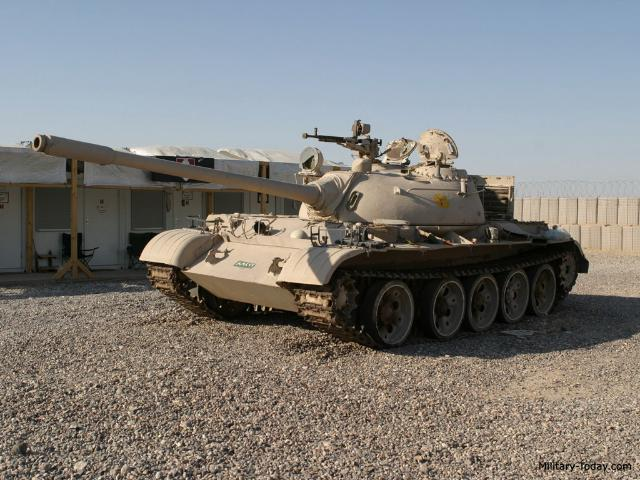tank: (149, 133, 579, 319)
